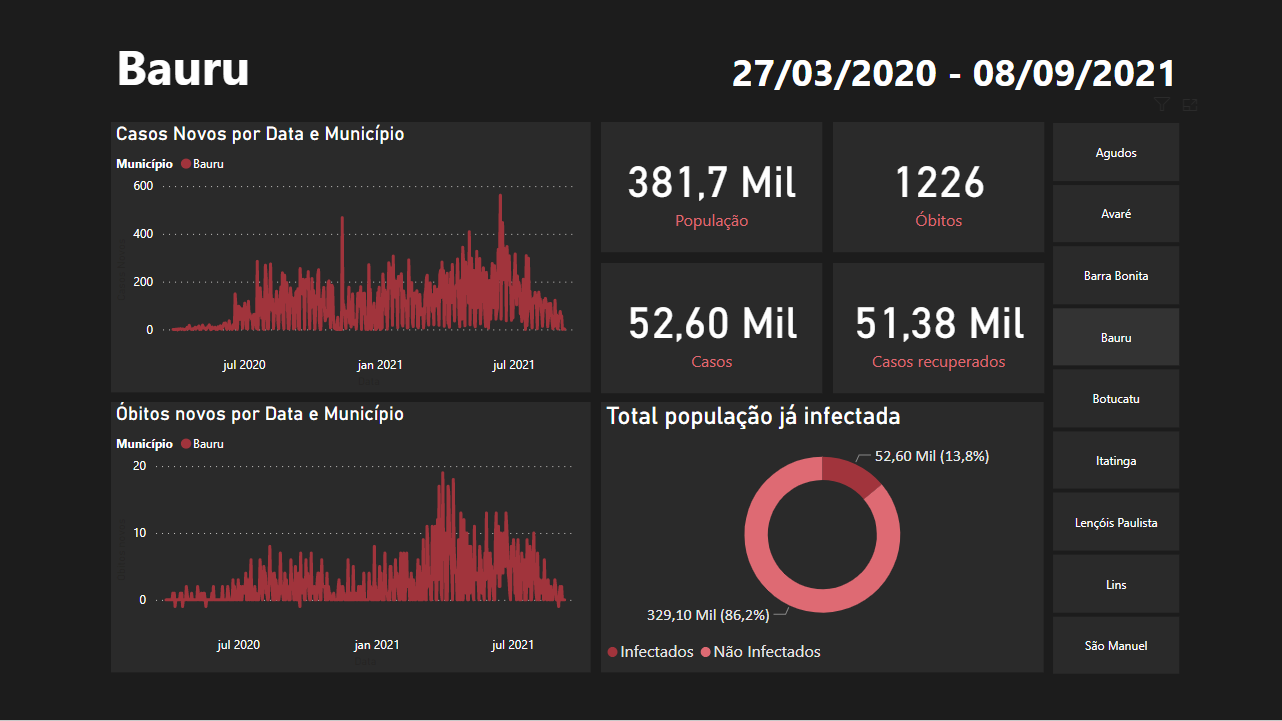

This screenshot's page, from the dashboard's own definition file:
{"tool":"powerbi","page":{"name":"Página 1","canvas":[1280,720],"ordinal":0},"visuals":[{"type":"slicer","fields":{"Values":["cidades.Município"]},"box":[1025.5,115.7,176.1,564.2],"z":0},{"type":"lineChart","fields":{"Y":["Sum(cidades.Óbitos novos)"],"Series":["cidades.Município"],"Category":["cidades.Data"]},"box":[110.5,401,479.4,269.9],"z":1000},{"type":"lineChart","fields":{"Series":["cidades.Município"],"Y":["Sum(cidades.Casos Novos)"],"Category":["cidades.Data"]},"box":[110.5,122.1,479.4,269.9],"z":2000},{"type":"donutChart","title":"Total população já infectada","fields":{"Y":["Sum(cidades.Casos Novos)","cidades.Não Infectados"]},"box":[600.2,401,442.1,269.9],"z":3000},{"type":"card","fields":{"Values":["Sum(cidades.Casos Novos)"]},"box":[600.2,262.2,221,129.8],"z":4000},{"type":"card","fields":{"Values":["Sum(populacao.População)"]},"box":[600.2,122.1,221,129.8],"z":5000},{"type":"textbox","box":[110.5,28.3,415.1,87.4],"z":6000},{"type":"card","fields":{"Values":["Sum(cidades.Óbitos novos)"]},"box":[831.5,122.1,210.8,129.8],"z":7000},{"type":"card","fields":{"Values":["cidades.Recuperados"]},"box":[831.5,262.2,210.8,129.8],"z":8000},{"type":"textbox","box":[571.9,41.1,609.2,74.5],"z":9000}]}

Visuals, with their boxes in screenshot pixels (x1, y1, x2, y2), scaled from the page's 1280x720 canvas onto the 1282x721 screenshot:
slicer - cidades.Município: box(1027, 116, 1203, 681)
lineChart - Sum(cidades.Óbitos novos) x cidades.Município: box(111, 402, 591, 672)
lineChart - cidades.Município x Sum(cidades.Casos Novos): box(111, 122, 591, 393)
"Total população já infectada" donutChart: box(601, 402, 1044, 672)
card - Sum(cidades.Casos Novos): box(601, 263, 822, 393)
card - Sum(populacao.População): box(601, 122, 822, 252)
textbox: box(111, 28, 526, 116)
card - Sum(cidades.Óbitos novos): box(833, 122, 1044, 252)
card - cidades.Recuperados: box(833, 263, 1044, 393)
textbox: box(573, 41, 1183, 116)
